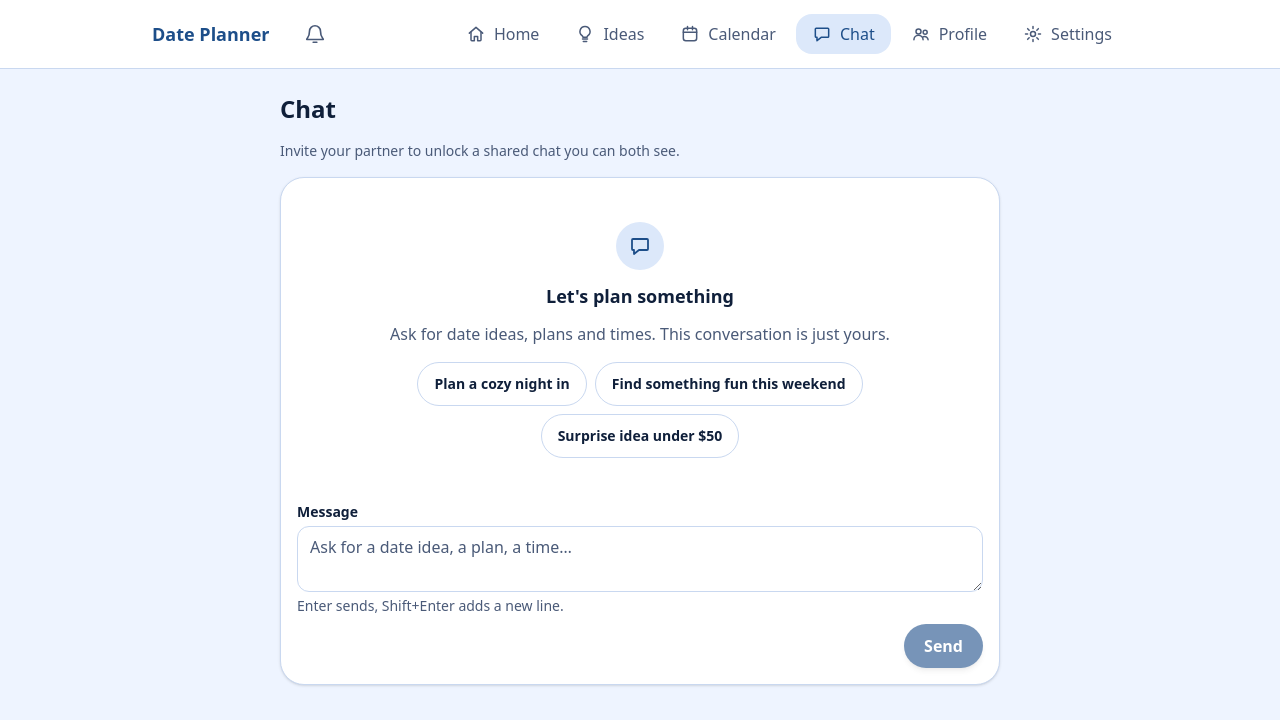
Test: ChatPage empty state and threads › shows a friendly intro whose chips fill the composer
Check: the heading "Chat" is shown, box [280,92,336,125]
Check: the heading "Let's plan something" is shown, box [546,282,734,310]
Click the button "Plan a cozy night in": {"x": 502, "y": 384} [418,362,587,406]
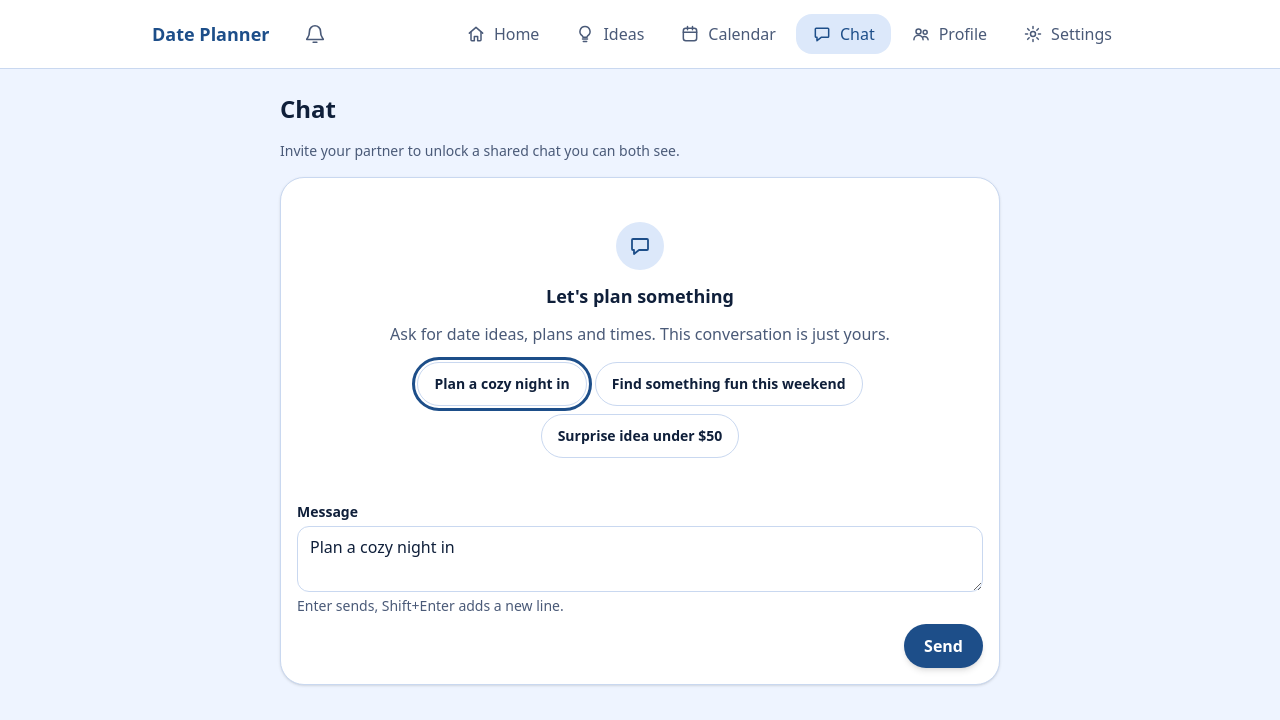
Check: the button "Find something fun this weekend" is shown, box [595,362,862,406]
Check: the text box labelled "Message" holds "Plan a cozy night in", box [297,526,983,592]
